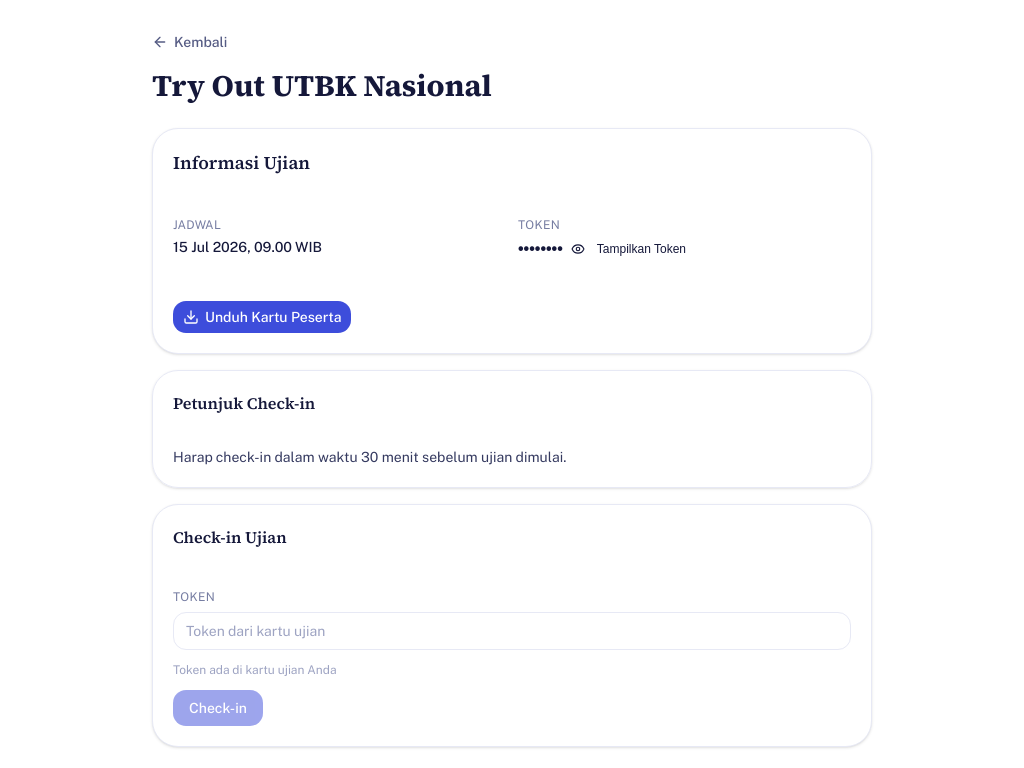
Test: ExamDetailPage — check-in form (FR27) › shows token input and enabled check-in button inside the window
Type "MYTOKEN" into the field with placeholder "Token dari kartu ujian".
click(512, 630); type("MYTOKEN")  # box 173,612 -> 851,650
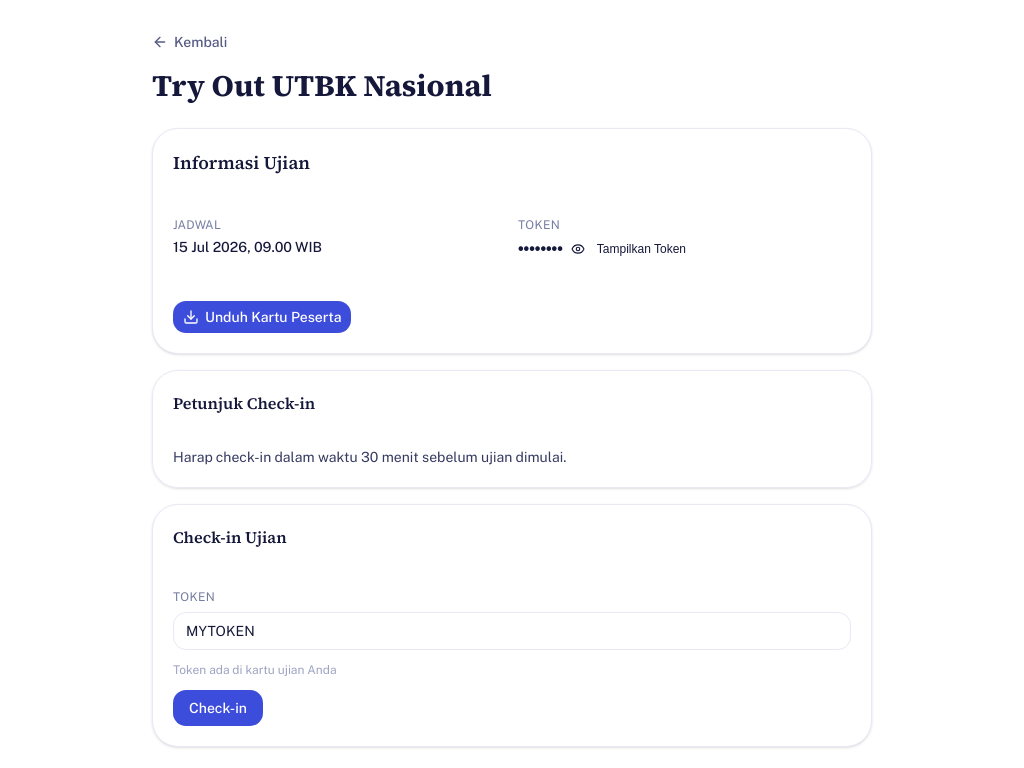
Expected: the heading "Check-in Ujian" is shown, 173,526 -> 287,548
Expected: the button "Check-in" is enabled, 173,690 -> 263,726
